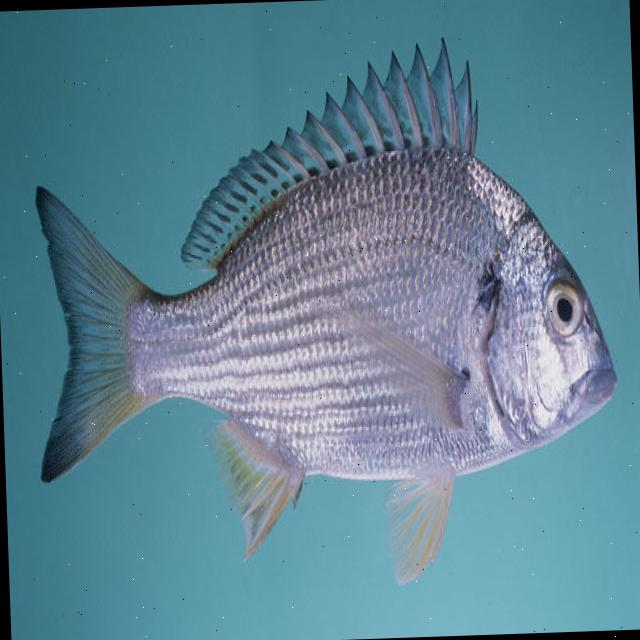ikan: (24, 28, 625, 597)
